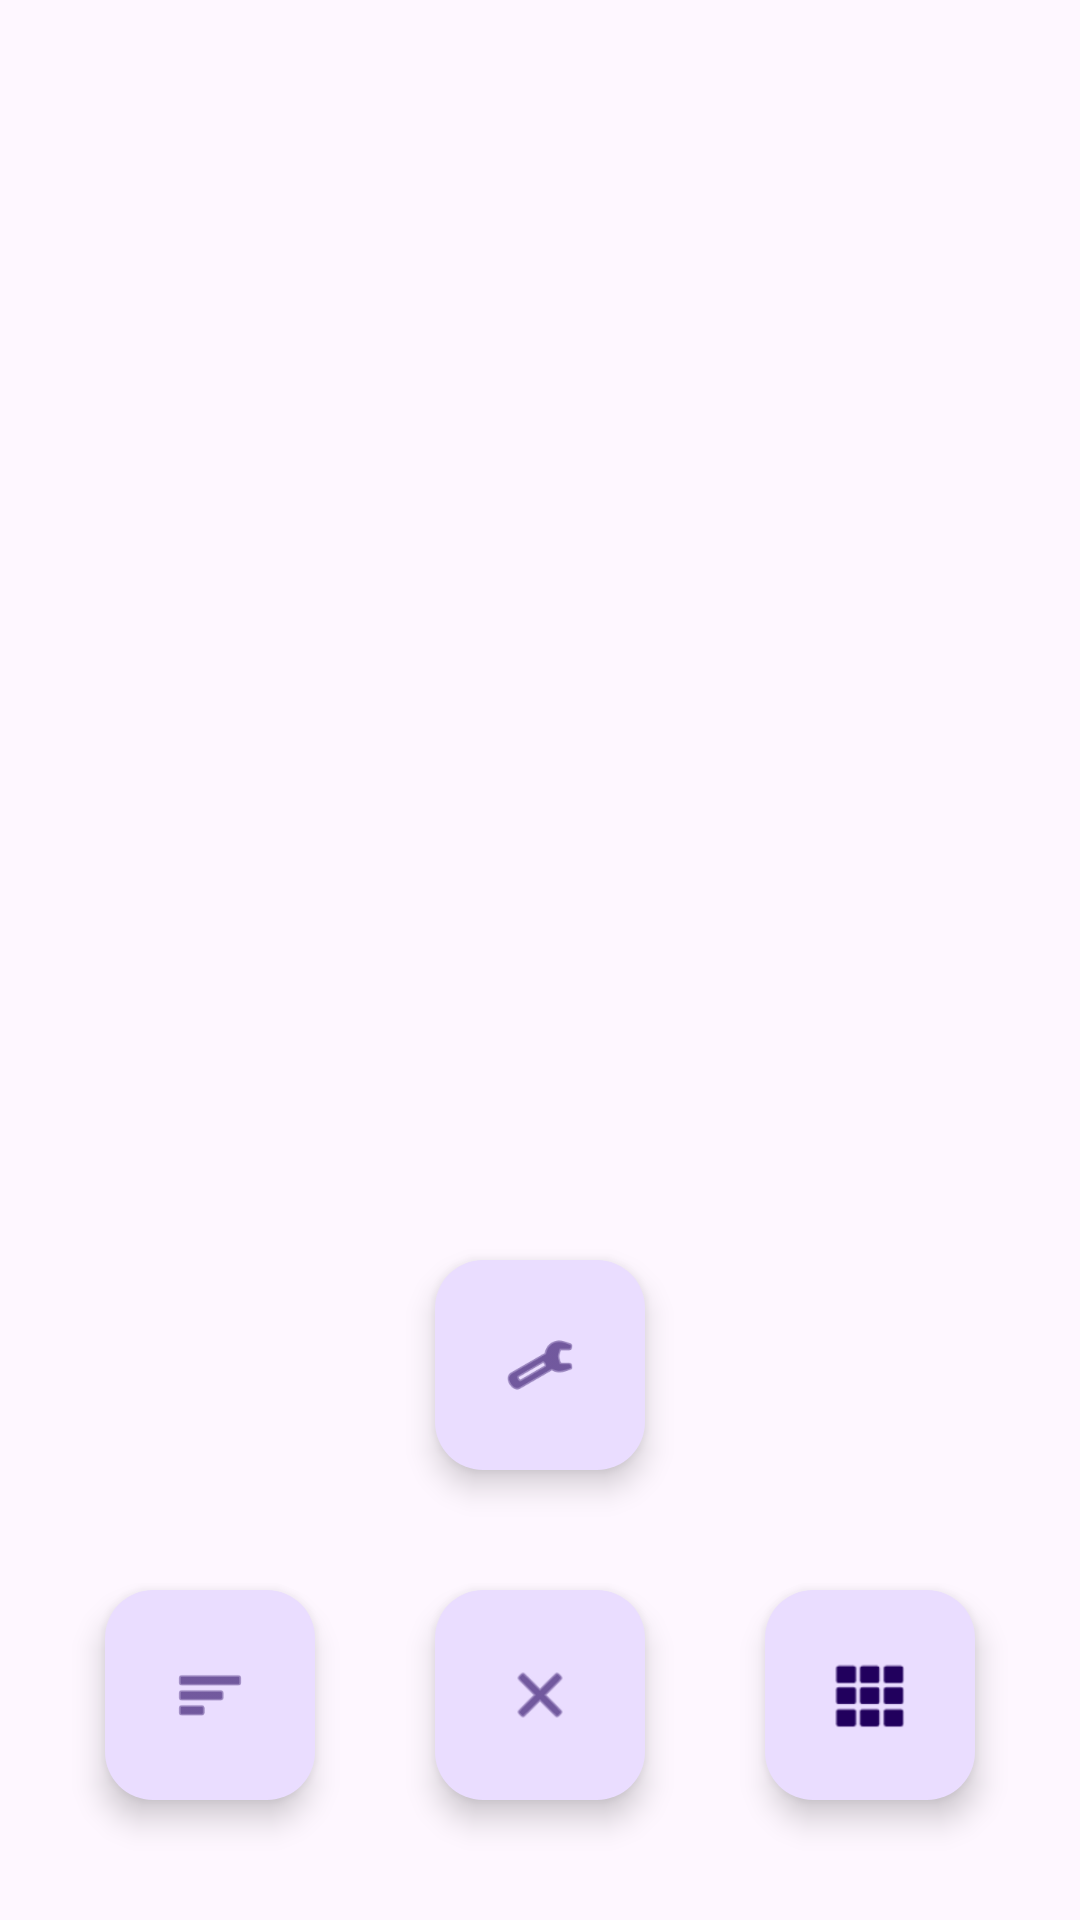

Where icons sit on this 1080 × 1920 app screen, as (x1, y1, x2, y2):
close clear cancel: (435, 1590, 645, 1800)
dialer: (765, 1590, 975, 1800)
manage: (435, 1260, 645, 1470)
